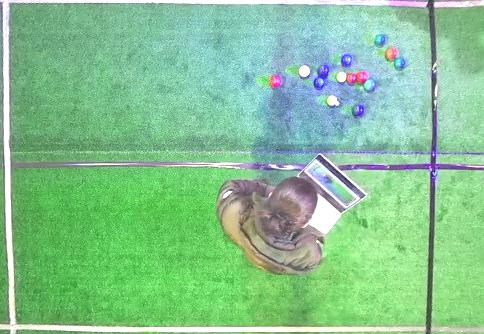blue: (341, 54, 352, 65), (314, 78, 324, 88)
green: (352, 104, 364, 117), (364, 79, 376, 92), (317, 65, 329, 76), (394, 58, 406, 69), (374, 35, 386, 46)
red: (298, 65, 311, 77), (385, 48, 398, 60), (269, 76, 281, 88), (356, 72, 368, 84), (347, 73, 356, 84)
vline: (425, 1, 484, 333), (0, 1, 19, 333)
white: (336, 101, 339, 106)
yellow: (336, 71, 347, 82), (327, 95, 337, 106)
